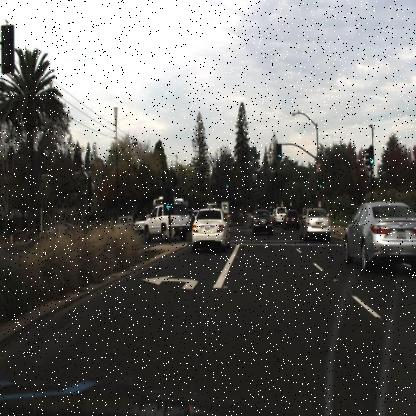car: (341, 195, 415, 271), (141, 201, 191, 243), (190, 204, 230, 248), (147, 207, 191, 236), (300, 208, 330, 241), (250, 209, 275, 237), (281, 207, 301, 233), (276, 205, 286, 227)
trafficLight: (275, 144, 283, 170), (224, 175, 230, 190)
trafficLight-Green: (369, 144, 374, 167), (318, 178, 323, 192)
trafficLight-GreenLeft: (163, 185, 173, 215)
truck: (154, 196, 185, 209)
